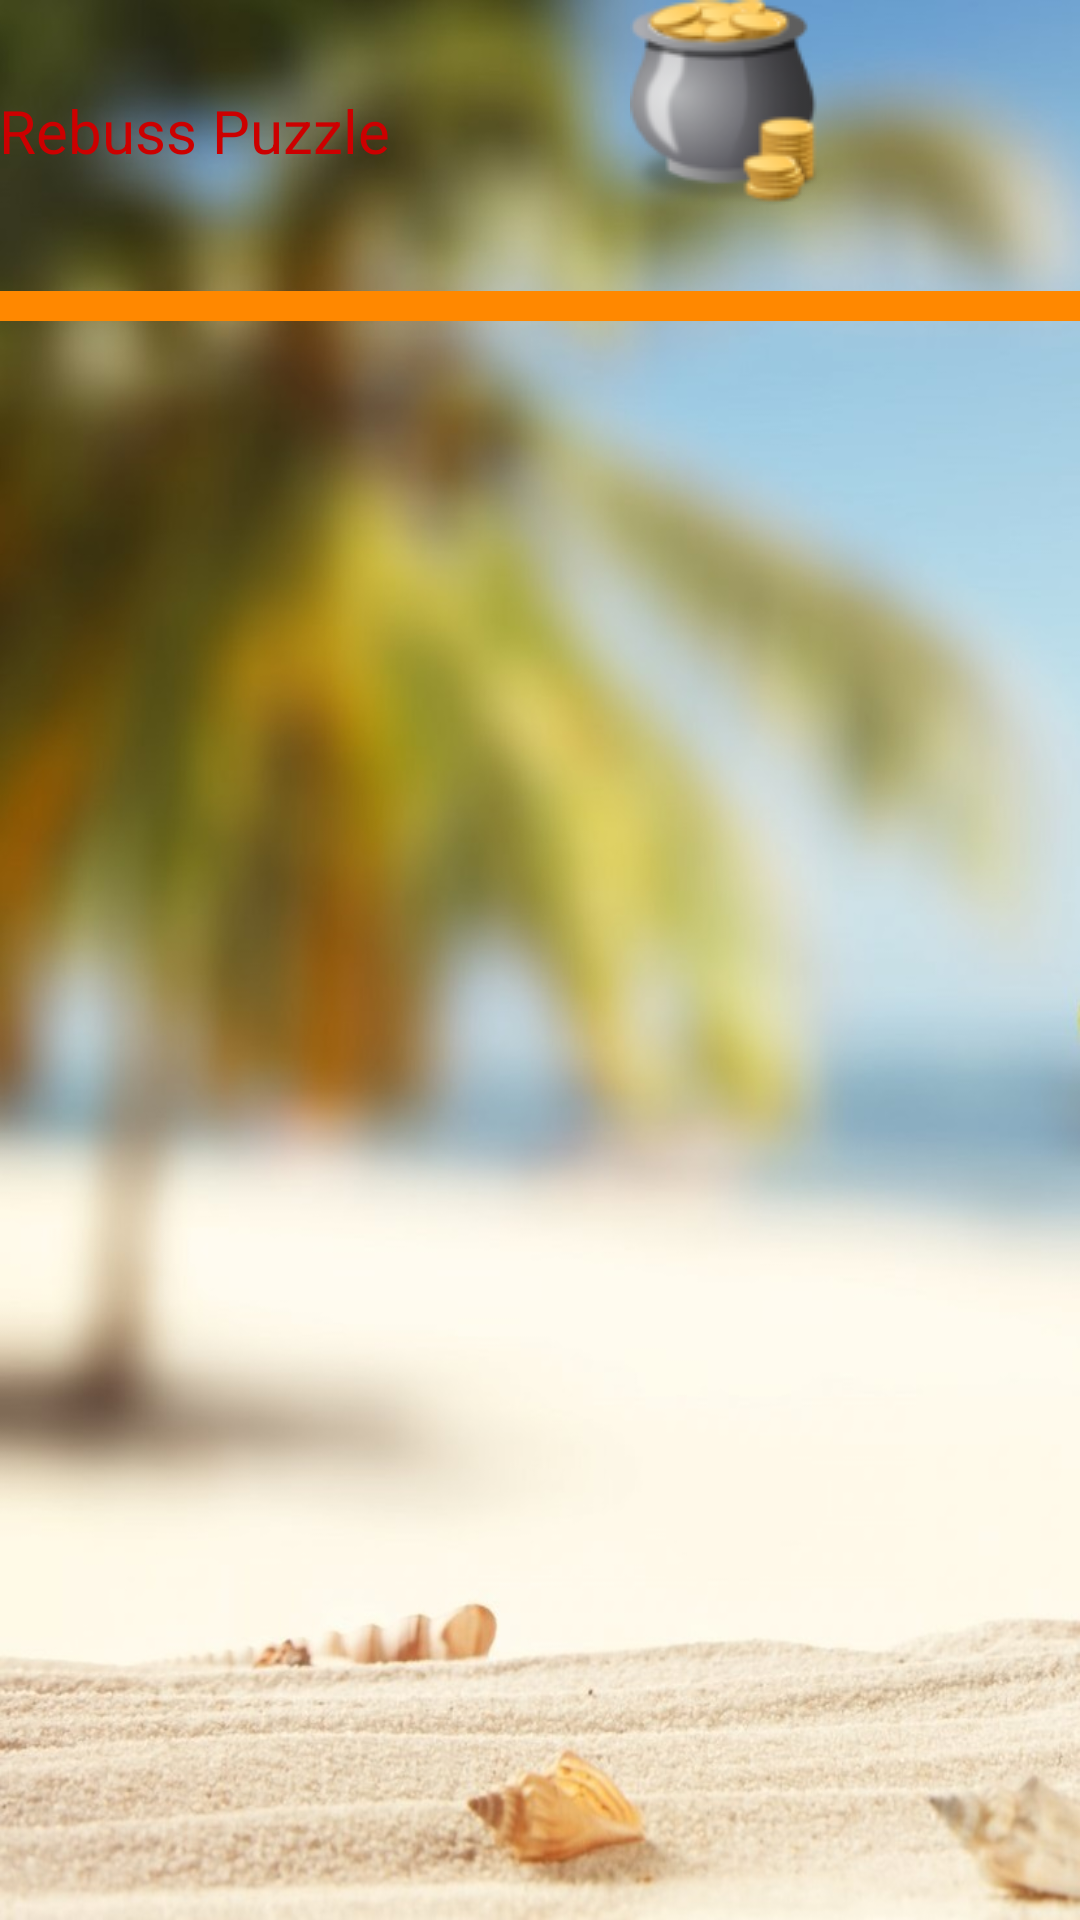

Screen size 1080*1920. Icon name, then its center in pixels as (x=x, y=y):
coin box: (x=729, y=105)
